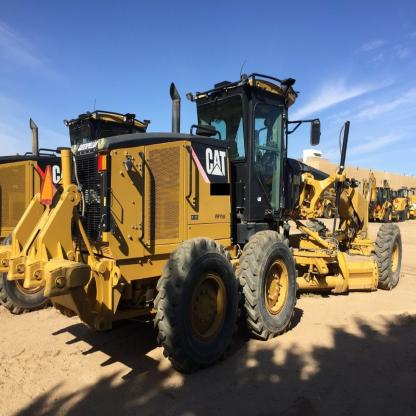bull_dozer/loader/grader: (28, 52, 415, 362)
